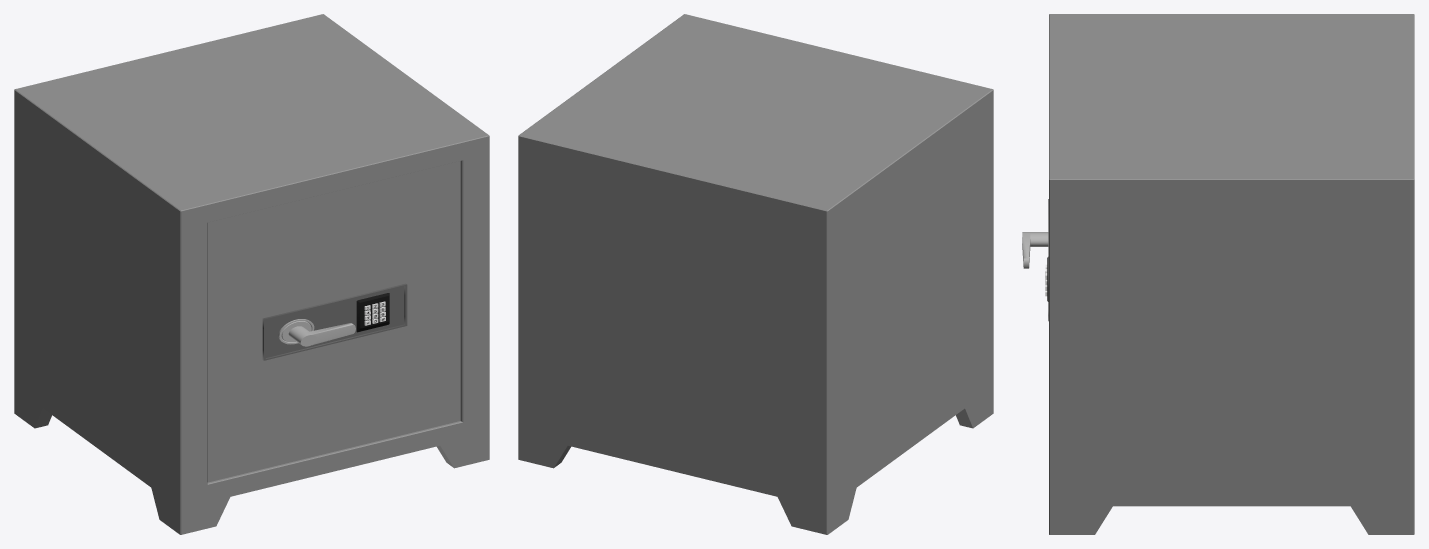
The model's file is sh-scopia-safe-on-feet.glb.
3 renders of one model, left to right at view 1: azimuth 30°, elevation 25°; view 2: azimuth 150°, elevation 25°; view 3: azimuth 270°, elevation 25°, orthographic. The views are drawn at different scales.
Parts seen in each view (by area): view 1: Safe, sweethome3d_opening_on_hinge_1_door; view 2: Safe; view 3: Safe, sweethome3d_opening_on_hinge_1_door.
Boxes of the visible parts, <box> form: Safe: <box>14,14,489,534</box>; sweethome3d_opening_on_hinge_1_door: <box>262,283,407,360</box>; Safe: <box>518,14,993,534</box>; Safe: <box>1049,14,1414,534</box>; sweethome3d_opening_on_hinge_1_door: <box>1022,199,1048,321</box>.
Bounding box in the file's own units: 1 × 1 × 1.
8 materials, 1 textured.
